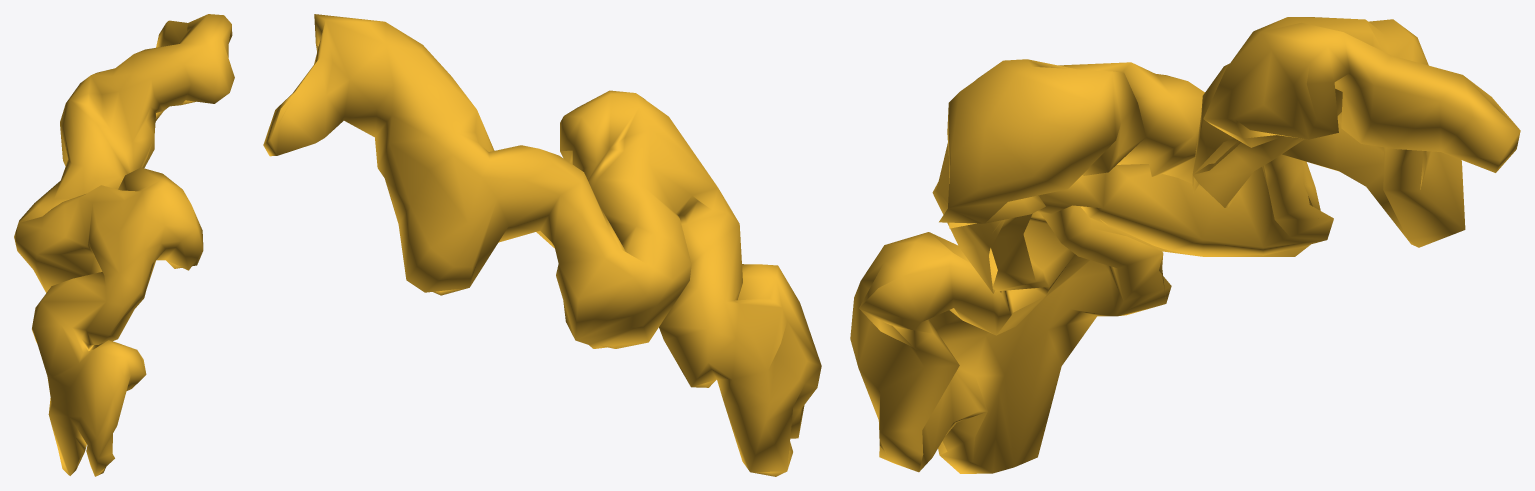
File: nervoso-precentral-gyrus-r.glb
3 views of the same model, side by side, from view 1: azimuth 30°, elevation 25°; view 2: azimuth 150°, elevation 25°; view 3: azimuth 270°, elevation 25° (orthographic). The views are drawn at different scales.
Visible parts, largest first — view 1: Precentral gyrus.r; view 2: Precentral gyrus.r; view 3: Precentral gyrus.r.
Part boxes in pixels (x1,y1,x2,y2): Precentral gyrus.r: [14, 14, 234, 476]; Precentral gyrus.r: [263, 14, 821, 476]; Precentral gyrus.r: [850, 17, 1520, 473].
Bounding box in the file's own units: 0.0486 × 0.0613 × 0.0556.
